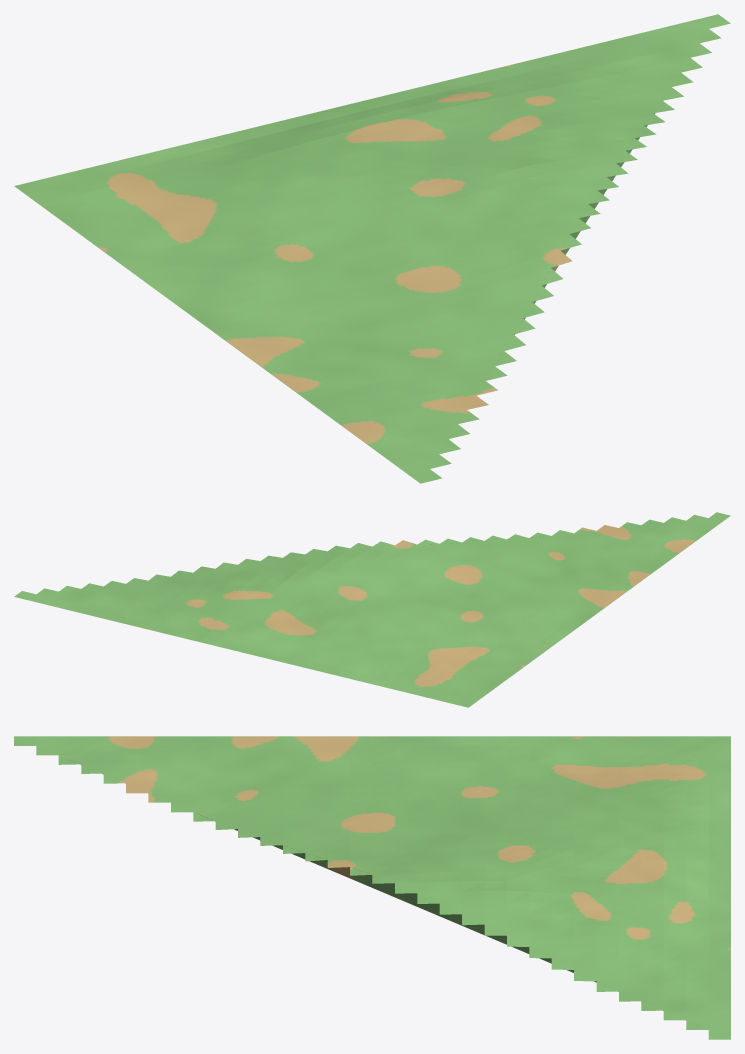
File: Grass_Flat_02_SW.obj
The picture shows the model from 3 angles, top to bottom: view 1: azimuth 30°, elevation 25°; view 2: azimuth 150°, elevation 25°; view 3: azimuth 270°, elevation 25°; orthographic projection. The views are drawn at different scales.
Size of the model in its own units: 10 by 0.2541 by 10.
Materials: 1 (1 with a texture image).
